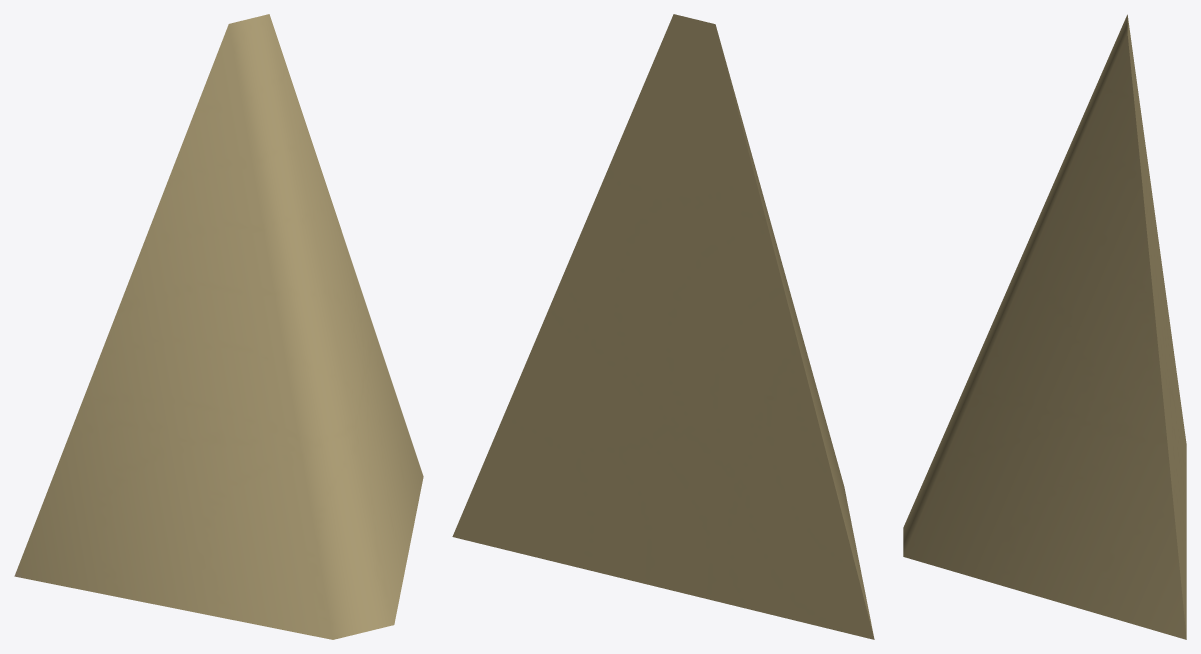
Rendered from nose_detective.fbx.
The picture shows the model from 3 angles, left to right: view 1: azimuth 30°, elevation 25°; view 2: azimuth 150°, elevation 25°; view 3: azimuth 270°, elevation 25°; orthographic projection. The views are drawn at different scales.
Parts seen in each view (by area): view 1: polySurface65; view 2: polySurface65; view 3: polySurface65.
Boxes of the visible parts, x1,y1,x2,y2 form: polySurface65: [14, 14, 423, 639]; polySurface65: [452, 14, 874, 639]; polySurface65: [903, 14, 1186, 639].
Bounding box in the file's own units: 3.35 × 4.14 × 2.05.
